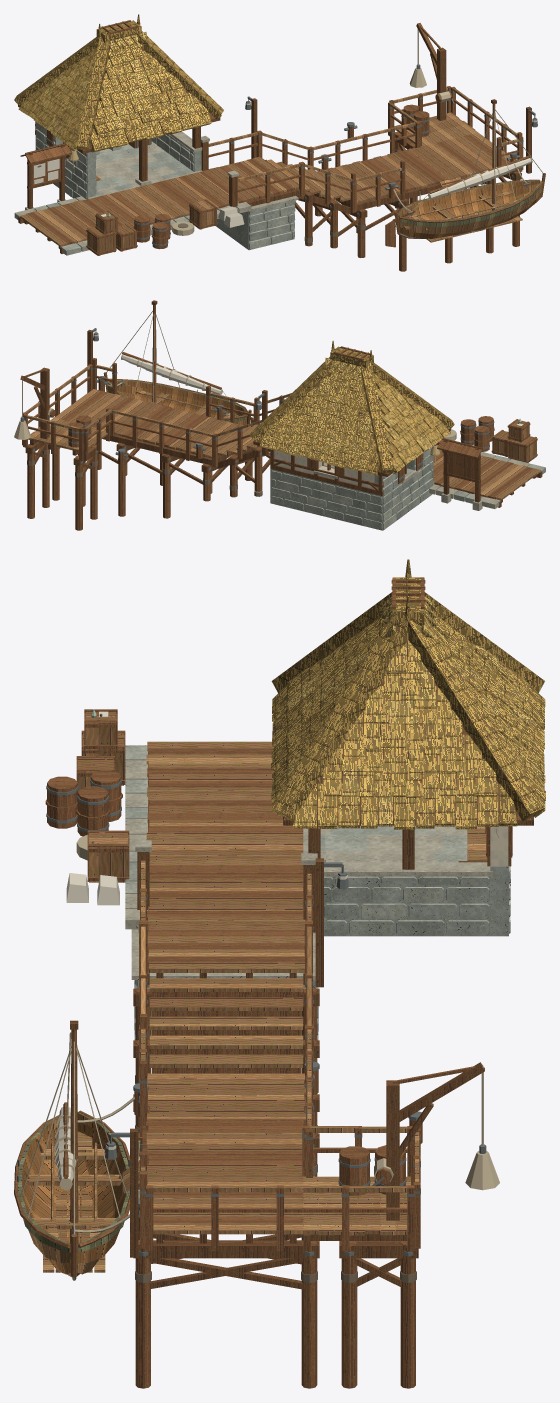
Rendered from haven.glb.
The picture shows the model from 3 angles, top to bottom: view 1: azimuth 30°, elevation 25°; view 2: azimuth 150°, elevation 25°; view 3: azimuth 270°, elevation 25°; orthographic projection. The views are drawn at different scales.
Visible parts, largest first — view 1: Haven_RoofThatch, Haven_DeckPier, Haven_PierRail, Haven_DeckLanding, Haven_ServiceBoat_Hull, Haven_PierFrame, Haven_RoofRidge, Haven_Props, Haven_PierStone, Haven_FloorShelter, Haven_Mooring, Haven_ServiceNotice_Board (+6 smaller); view 2: Haven_RoofThatch, Haven_PierFrame, Haven_DeckLanding, Haven_PierRail, Haven_ShellNorth, Haven_RoofRidge, Haven_Props, Haven_ShellWest, Haven_DeckPier, Haven_Mooring, Haven_ServiceBoat_Hull, Haven_ServiceNotice_Board (+5 smaller); view 3: Haven_RoofThatch, Haven_DeckPier, Haven_DeckLanding, Haven_PierFrame, Haven_RoofRidge, Haven_PierRail, Haven_ShellEast, Haven_Props, Haven_StairFlight, Haven_Mooring, Haven_ServiceBoat_Hull, Haven_FloorShelter (+6 smaller).
Boxes of the visible parts, bbox=[...] form: Haven_RoofThatch: bbox=[18, 37, 221, 152]; Haven_DeckPier: bbox=[20, 157, 298, 246]; Haven_PierRail: bbox=[200, 86, 523, 212]; Haven_DeckLanding: bbox=[317, 112, 510, 203]; Haven_ServiceBoat_Hull: bbox=[394, 173, 545, 238]; Haven_PierFrame: bbox=[18, 131, 521, 271]; Haven_RoofRidge: bbox=[14, 14, 223, 150]; Haven_Props: bbox=[86, 104, 429, 255]; Haven_PierStone: bbox=[14, 196, 298, 255]; Haven_FloorShelter: bbox=[72, 141, 202, 199]; Haven_Mooring: bbox=[245, 23, 537, 211]; Haven_ServiceNotice_Board: bbox=[20, 143, 78, 209]; Haven_RoofThatch: bbox=[260, 363, 450, 475]; Haven_PierFrame: bbox=[25, 434, 542, 530]; Haven_DeckLanding: bbox=[28, 389, 250, 458]; Haven_PierRail: bbox=[21, 358, 291, 467]; Haven_ShellNorth: bbox=[270, 450, 384, 530]; Haven_RoofRidge: bbox=[249, 340, 454, 473]; Haven_Props: bbox=[68, 415, 537, 462]; Haven_ShellWest: bbox=[374, 447, 433, 530]; Haven_DeckPier: bbox=[433, 445, 540, 500]; Haven_Mooring: bbox=[14, 328, 267, 465]; Haven_ServiceBoat_Hull: bbox=[103, 372, 251, 425]; Haven_ServiceNotice_Board: bbox=[430, 438, 486, 510]; Haven_RoofThatch: bbox=[271, 611, 545, 829]; Haven_DeckPier: bbox=[146, 741, 305, 972]; Haven_DeckLanding: bbox=[146, 1073, 410, 1235]; Haven_PierFrame: bbox=[133, 752, 418, 1388]; Haven_RoofRidge: bbox=[271, 559, 544, 821]; Haven_PierRail: bbox=[135, 840, 420, 1250]; Haven_ShellEast: bbox=[324, 862, 492, 936]; Haven_Props: bbox=[45, 709, 406, 1195]; Haven_StairFlight: bbox=[149, 978, 303, 1067]; Haven_Mooring: bbox=[75, 858, 499, 1257]; Haven_ServiceBoat_Hull: bbox=[14, 1110, 129, 1280]; Haven_FloorShelter: bbox=[303, 825, 467, 862].
Bounding box in the file's own units: 20.4 × 10.69 × 10.38.
Materials: 29 (21 with a texture image).
